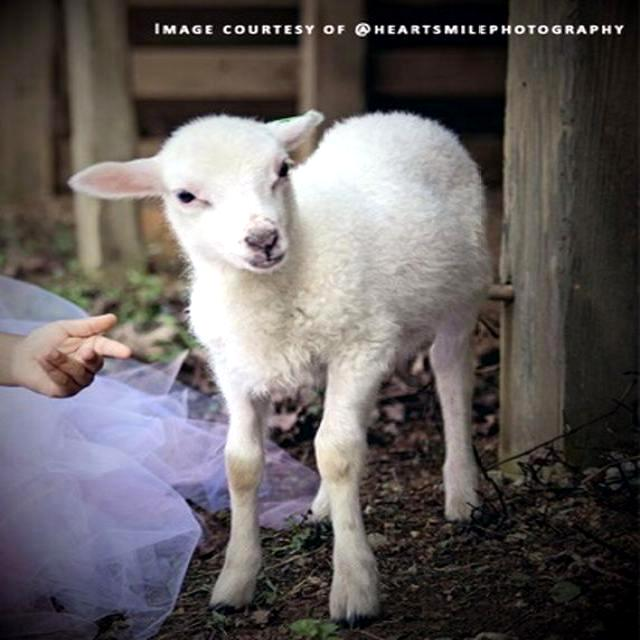sheep: (64, 112, 489, 619)
